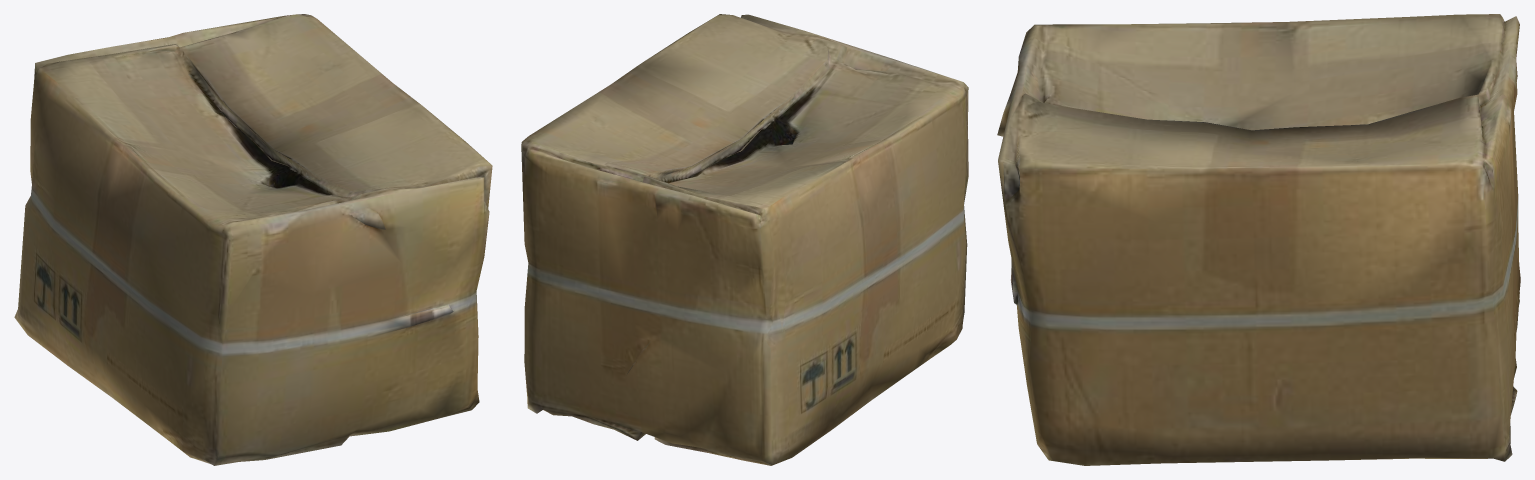
3 renders of one model, left to right at view 1: azimuth 30°, elevation 25°; view 2: azimuth 150°, elevation 25°; view 3: azimuth 270°, elevation 25°, orthographic. The views are drawn at different scales.
Parts seen in each view (by area): view 1: lo; view 2: lo; view 3: lo.
Part boxes in pixels (x1,y1,x2,y2): lo: (14, 14, 492, 465); lo: (521, 14, 968, 465); lo: (997, 14, 1520, 465).
Bounding box in the file's own units: 0.3872 × 0.3384 × 0.5151.
Materials: 1 (1 with a texture image).
